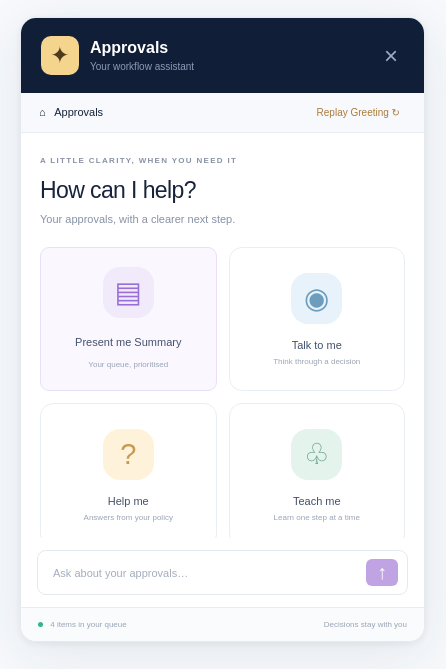
Test: shows loading while request is pending
The width and height of the screenshot is (446, 669).
Click the button "▤ Present me Summary Your queue, prioritised" at x=128, y=319, box [40,247,216,391]
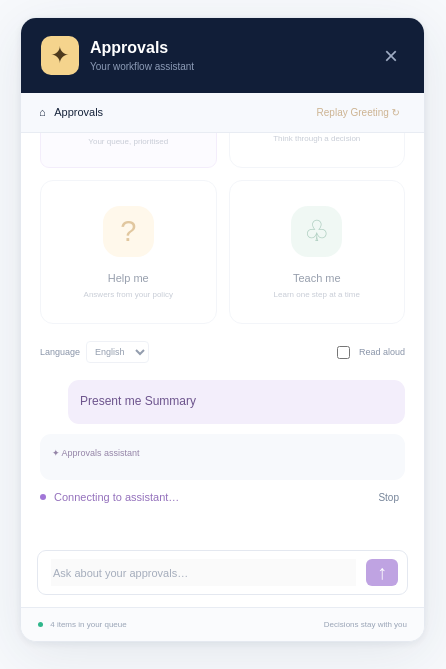
Result: the message shows "Connecting" at [54,491,179,503]
